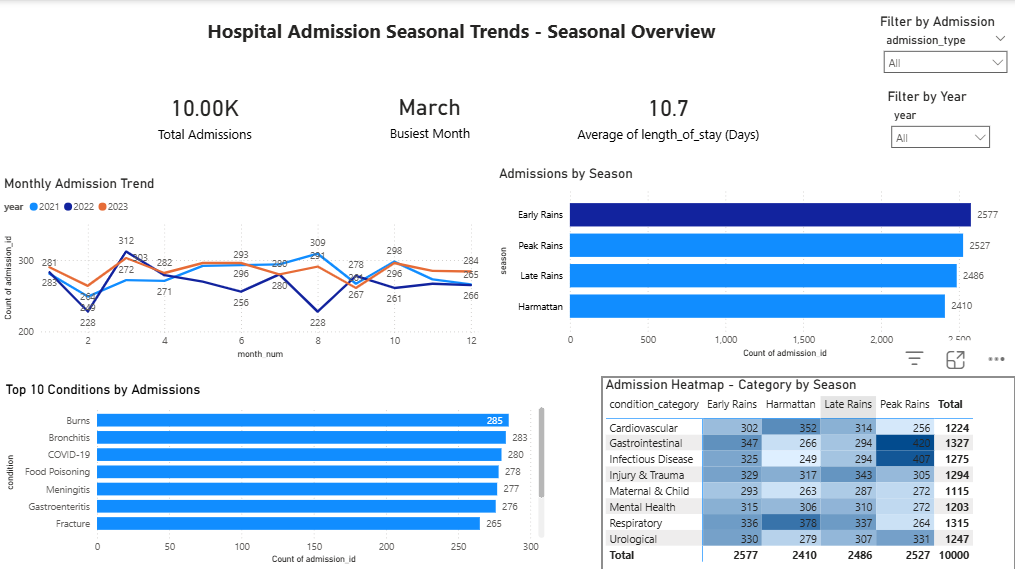

Layout of this report page (visuals, bound fields, positions):
{"tool":"powerbi","page":{"name":"SEASONAL OVERVIEW","canvas":[1280,720],"ordinal":0},"visuals":[{"type":"textbox","box":[106,16.6,950.8,62.9],"z":0},{"type":"lineChart","title":"Monthly Admission Trend","fields":{"Category":["hospital_admissions_dataset.month_num"],"Y":["CountNonNull(hospital_admissions_dataset.admission_id)"],"Series":["hospital_admissions_dataset.year"]},"box":[0,222,607.9,235.2],"z":1000},{"type":"clusteredBarChart","title":"Admissions by Season","fields":{"Category":["hospital_admissions_dataset.season"],"Y":["CountNonNull(hospital_admissions_dataset.admission_id)"]},"box":[624.5,207.1,656,246.8],"z":2000},{"type":"clusteredBarChart","title":"Top 10 Conditions by Admissions","fields":{"Category":["hospital_admissions_dataset.condition"],"Y":["CountNonNull(hospital_admissions_dataset.admission_id)"]},"box":[1.7,480.4,689.1,235.2],"z":3000},{"type":"pivotTable","title":"Admission Heatmap - Category by Season","fields":{"Rows":["hospital_admissions_dataset.condition_category"],"Columns":["hospital_admissions_dataset.season"],"Values":["Count(hospital_admissions_dataset.admission_id)"]},"box":[757,473.8,521.8,246.8],"z":4000},{"type":"slicer","title":"Filter by Year","fields":{"Values":["hospital_admissions_dataset.year"]},"box":[1113.2,111,144.1,96.1],"z":5000},{"type":"slicer","title":"Filter by Admission ","fields":{"Values":["hospital_admissions_dataset.admission_type"]},"box":[1103.2,16.6,175.6,79.5],"z":6000},{"type":"card","title":"Total Admissions","fields":{"Values":["Count(hospital_admissions_dataset.admission_id)"]},"box":[138.1,81.2,239.2,125.9],"z":7000},{"type":"card","fields":{"Values":["hospital_admissions_dataset.Busiest Month"]},"box":[390.9,82.2,299.8,124.2],"z":8000},{"type":"card","fields":{"Values":["Avg(hospital_admissions_dataset.length_of_stay)"]},"box":[690.7,90.4,299.8,107.7],"z":9000}]}

Visuals, with their boxes in screenshot pixels (x1, y1, x2, y2), scaled from the page's 1280x720 canvas onto the 1015x569 screenshot:
textbox: (84, 13, 838, 63)
"Monthly Admission Trend" lineChart: (0, 175, 482, 361)
"Admissions by Season" clusteredBarChart: (495, 164, 1014, 359)
"Top 10 Conditions by Admissions" clusteredBarChart: (1, 380, 548, 566)
"Admission Heatmap - Category by Season" pivotTable: (600, 374, 1014, 568)
"Filter by Year" slicer: (883, 88, 997, 164)
"Filter by Admission " slicer: (875, 13, 1014, 76)
"Total Admissions" card: (110, 64, 299, 164)
card - hospital_admissions_dataset.Busiest Month: (310, 65, 548, 163)
card - Avg(hospital_admissions_dataset.length_of_stay): (548, 71, 785, 157)
